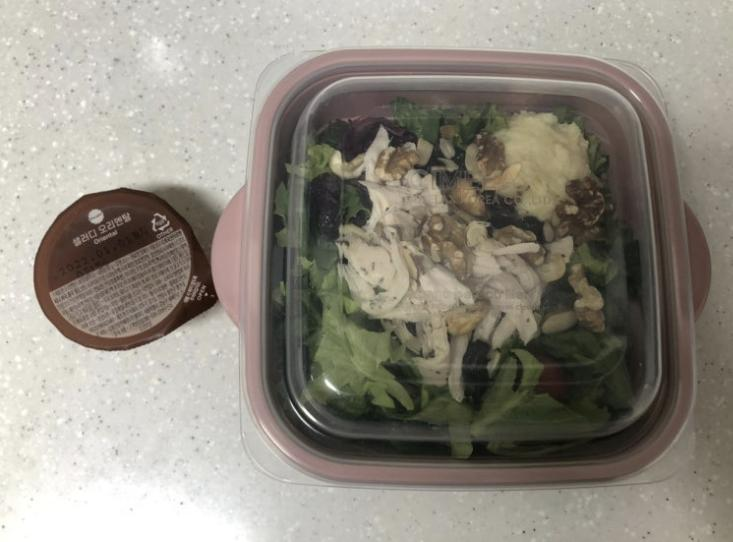Lunch Box: (213, 48, 710, 489)
cup: (34, 188, 217, 349)
